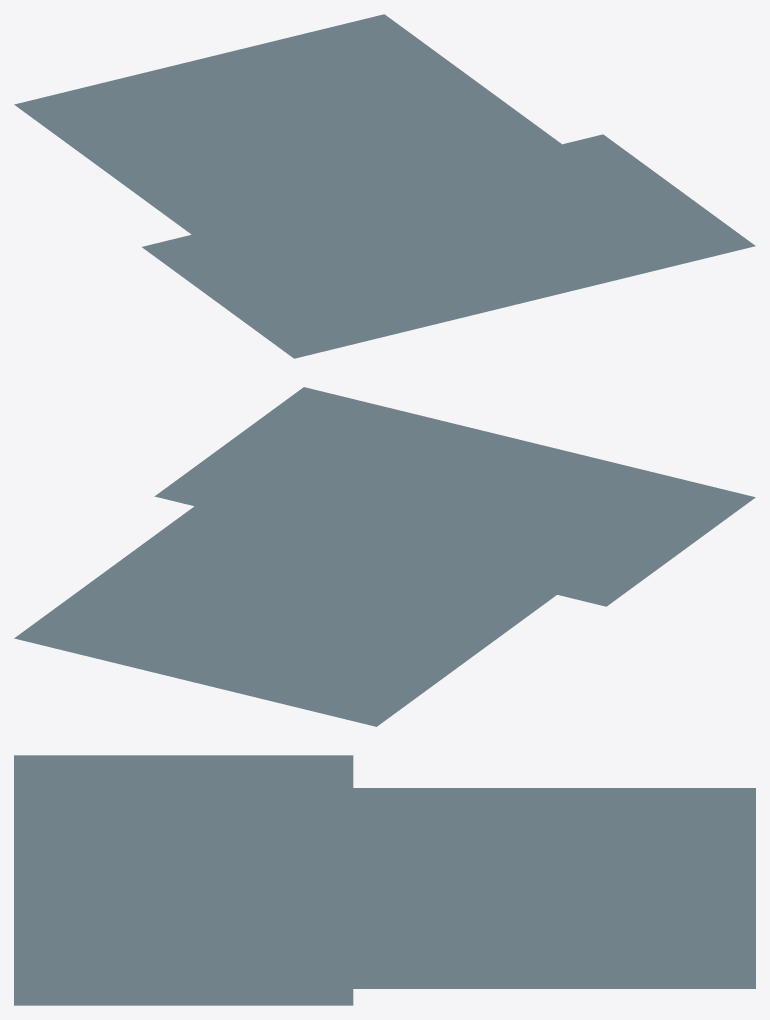
File: RiverWater_FBX.fbx
The picture shows the model from 3 angles, top to bottom: view 1: azimuth 30°, elevation 25°; view 2: azimuth 150°, elevation 25°; view 3: azimuth 270°, elevation 25°; orthographic projection. The views are drawn at different scales.
Visible parts, largest first — view 1: RiverWater; view 2: RiverWater; view 3: RiverWater.
Boxes of the visible parts, x1,y1,x2,y2 form: RiverWater: (14,14,755,358); RiverWater: (14,387,755,726); RiverWater: (14,755,755,1005).
Size of the model in its own units: 6057 by 40.69 by 7586.
